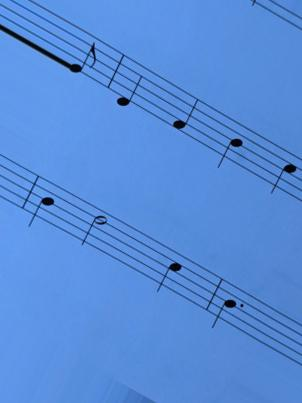note: (211, 106, 247, 174), (264, 137, 300, 204), (204, 267, 238, 335), (25, 170, 57, 233), (112, 47, 144, 110), (153, 239, 185, 301), (171, 83, 203, 145)
